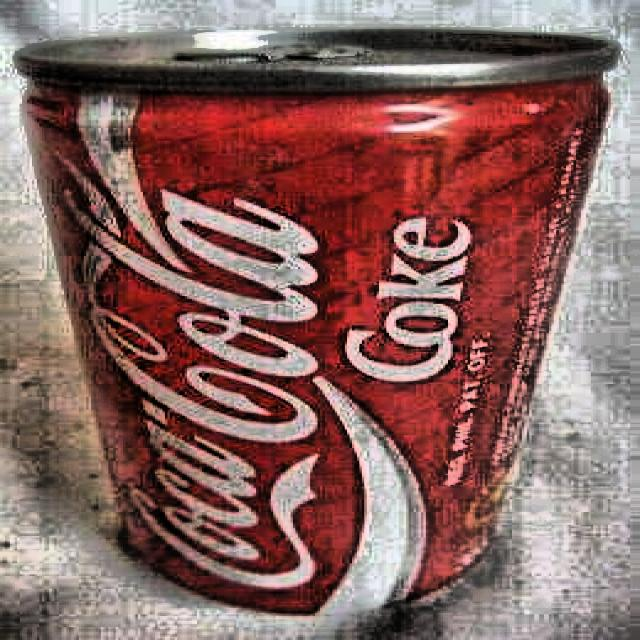Cans: (3, 11, 640, 628)
